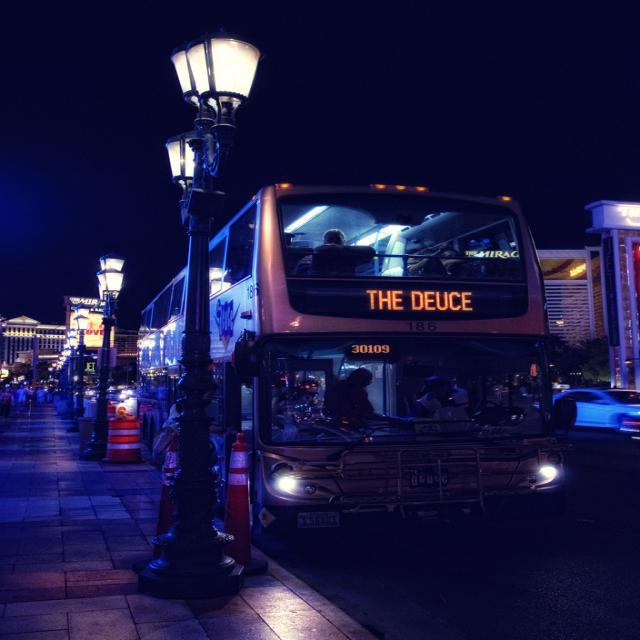Bus: (88, 184, 588, 568)
People: (310, 214, 390, 302), (400, 359, 465, 448), (333, 347, 382, 446)
car: (535, 362, 640, 476)
